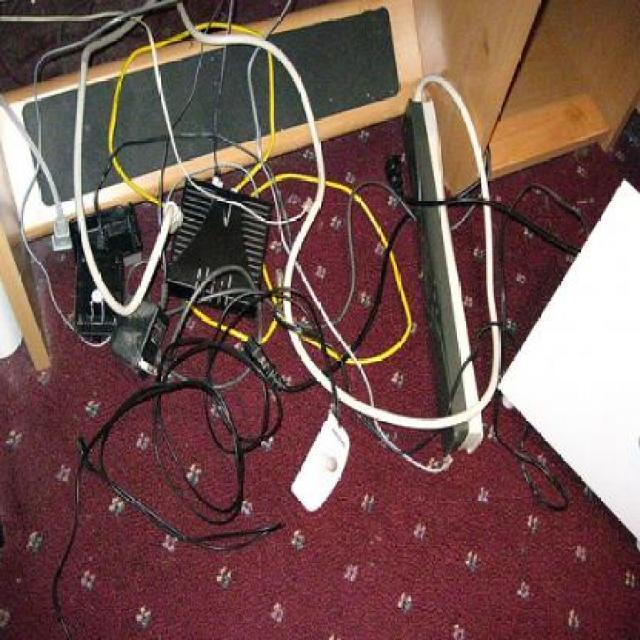garbage: (0, 3, 638, 507)
